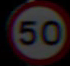Speed limit: (7, 4, 64, 58)
